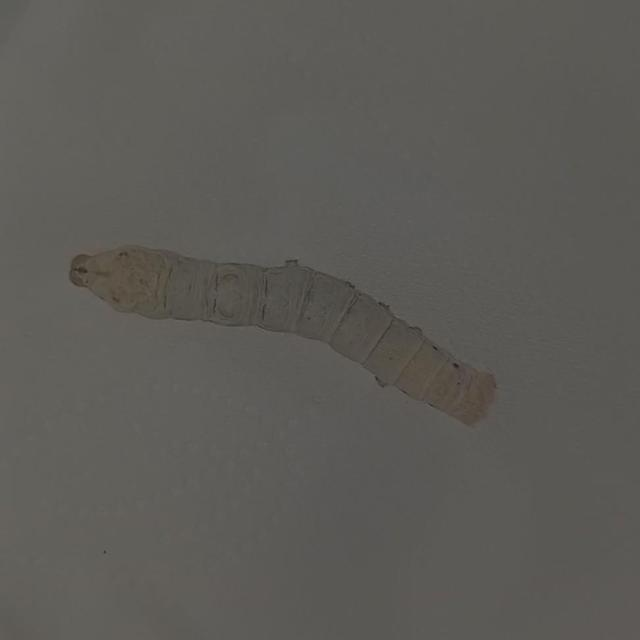Healthy: (41, 195, 508, 456)
